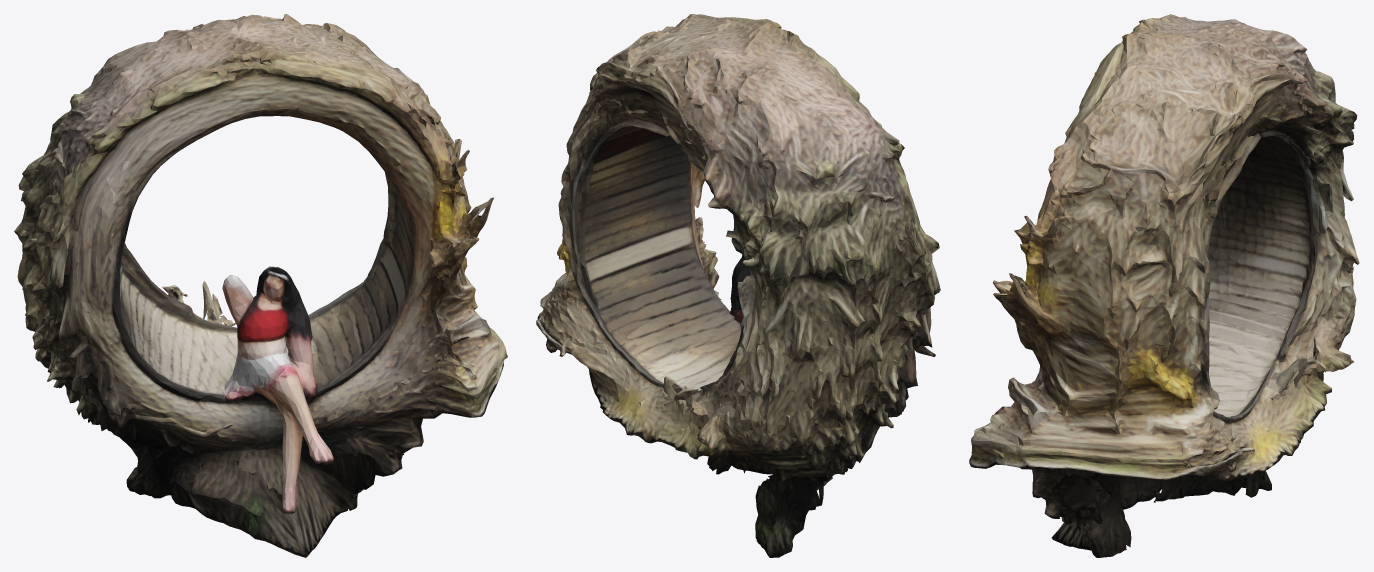
The model's file is bali-hideaway-swing.glb.
The picture shows the model from 3 angles, left to right: view 1: azimuth 30°, elevation 25°; view 2: azimuth 150°, elevation 25°; view 3: azimuth 270°, elevation 25°; orthographic projection. The views are drawn at different scales.
Visible parts, largest first — view 1: world; view 2: world; view 3: world.
Boxes of the visible parts, left/top/right/bottom form: world: left=14, top=14, right=507, bottom=557; world: left=536, top=14, right=940, bottom=557; world: left=969, top=14, right=1359, bottom=557.
Bounding box in the file's own units: 0.864 × 0.996 × 0.695.
1 material, 1 textured.
